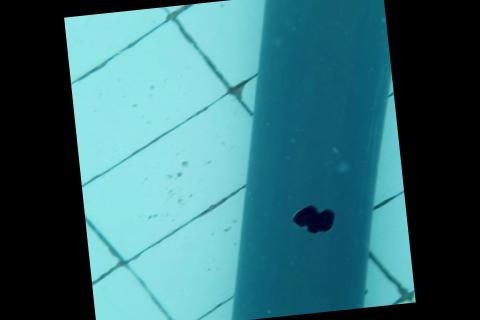kebocoran: (289, 201, 338, 237)
